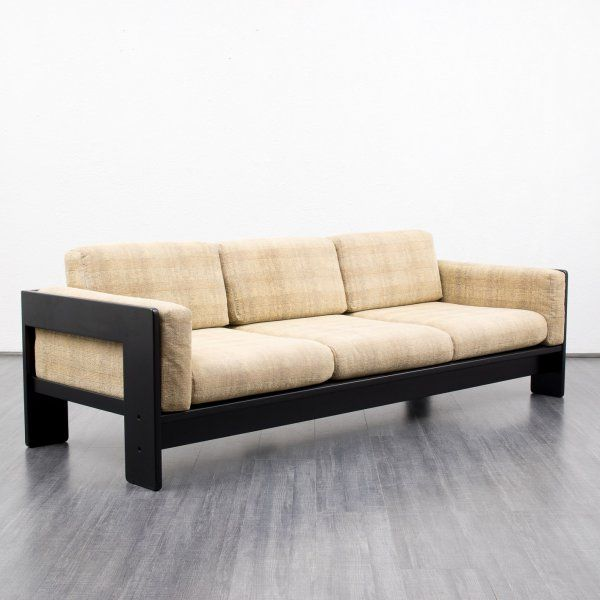3seatersofa: (22, 231, 566, 489)
backrest: (67, 231, 441, 327)
base: (163, 348, 557, 444)
leftarmrest: (439, 261, 567, 345)
leg: (124, 424, 160, 490), (26, 397, 70, 446), (531, 343, 565, 397)
rightarmrest: (21, 286, 191, 424)
seat: (192, 301, 546, 403)
